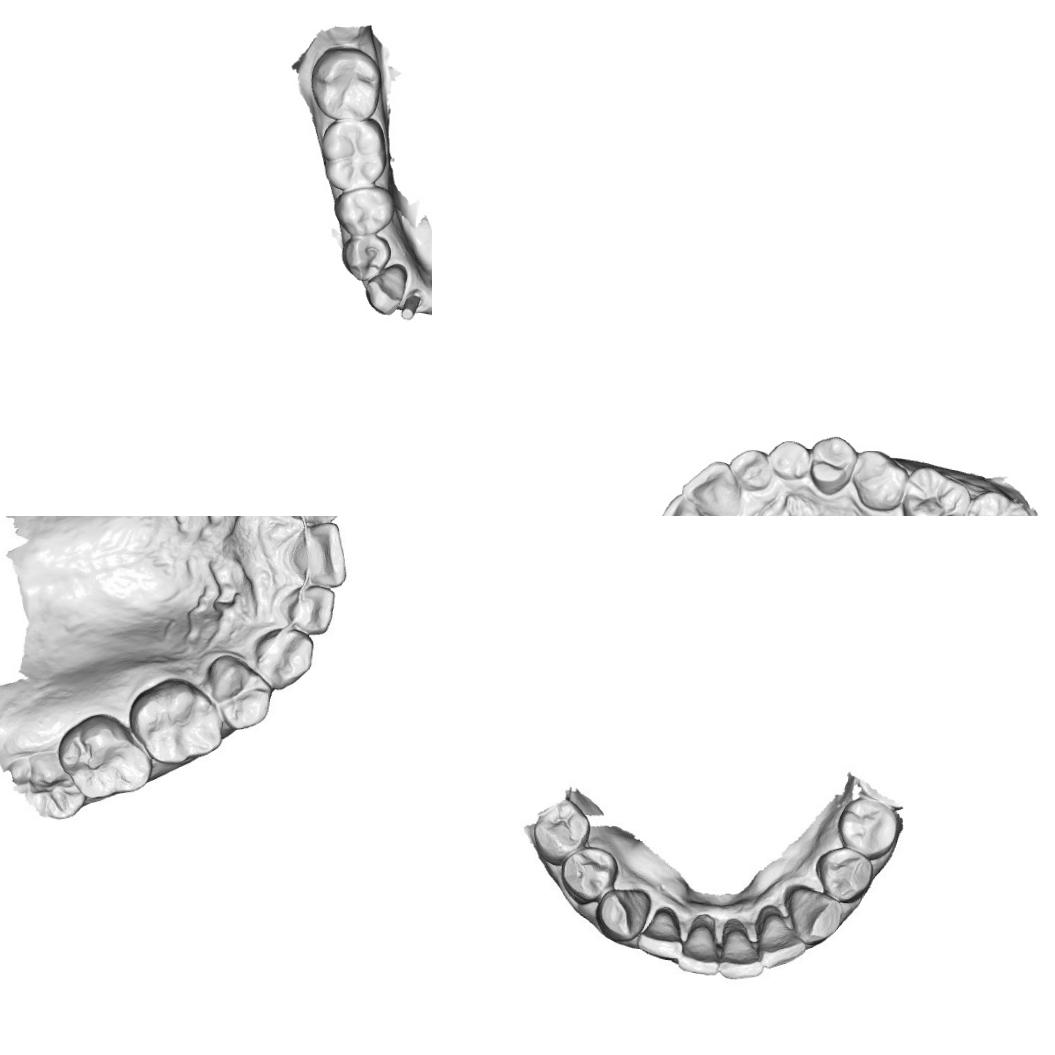abutment: (398, 290, 423, 322)
canine: (251, 625, 317, 691), (782, 884, 844, 946), (592, 886, 653, 943), (362, 260, 410, 316), (764, 438, 810, 482)
incisor: (678, 458, 744, 516), (756, 902, 809, 972), (296, 518, 350, 586), (716, 917, 764, 982), (635, 905, 687, 962), (674, 918, 721, 976), (282, 585, 336, 633), (727, 446, 774, 492), (657, 491, 719, 516), (285, 516, 337, 532)
molar: (129, 676, 224, 768), (59, 716, 152, 802), (308, 45, 384, 124), (318, 116, 389, 194), (899, 463, 972, 516), (961, 488, 1034, 516)
premolar: (210, 654, 268, 728), (835, 796, 901, 860), (534, 799, 594, 866), (850, 448, 907, 514), (812, 842, 872, 904), (559, 846, 621, 905), (330, 183, 396, 237), (808, 434, 860, 498), (340, 232, 393, 282)
